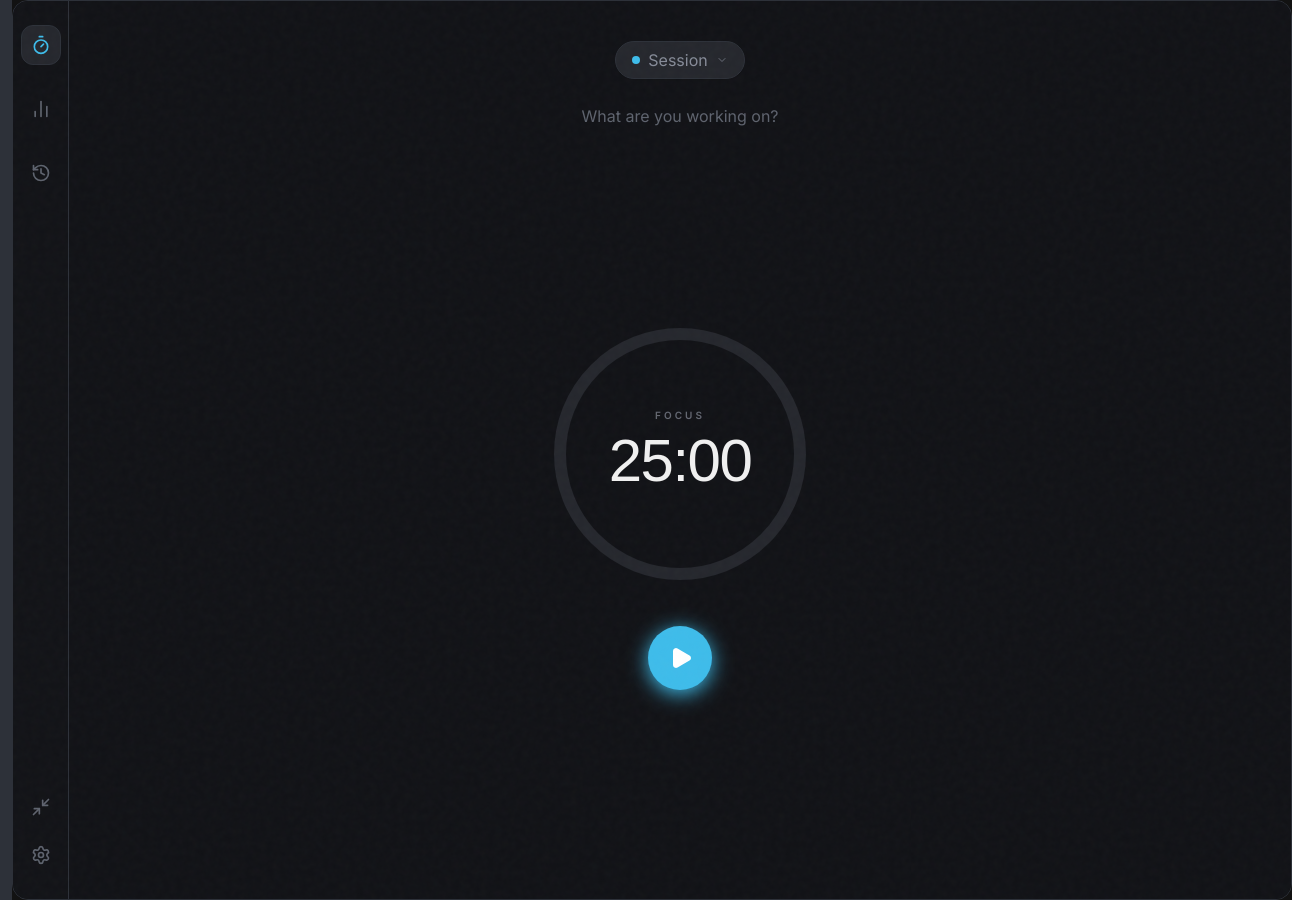
App onboarding flow › runs breathing ritual before focus when enabled and supports skip
Click the button named "start timer" at (680, 658), box [648,626,712,690]
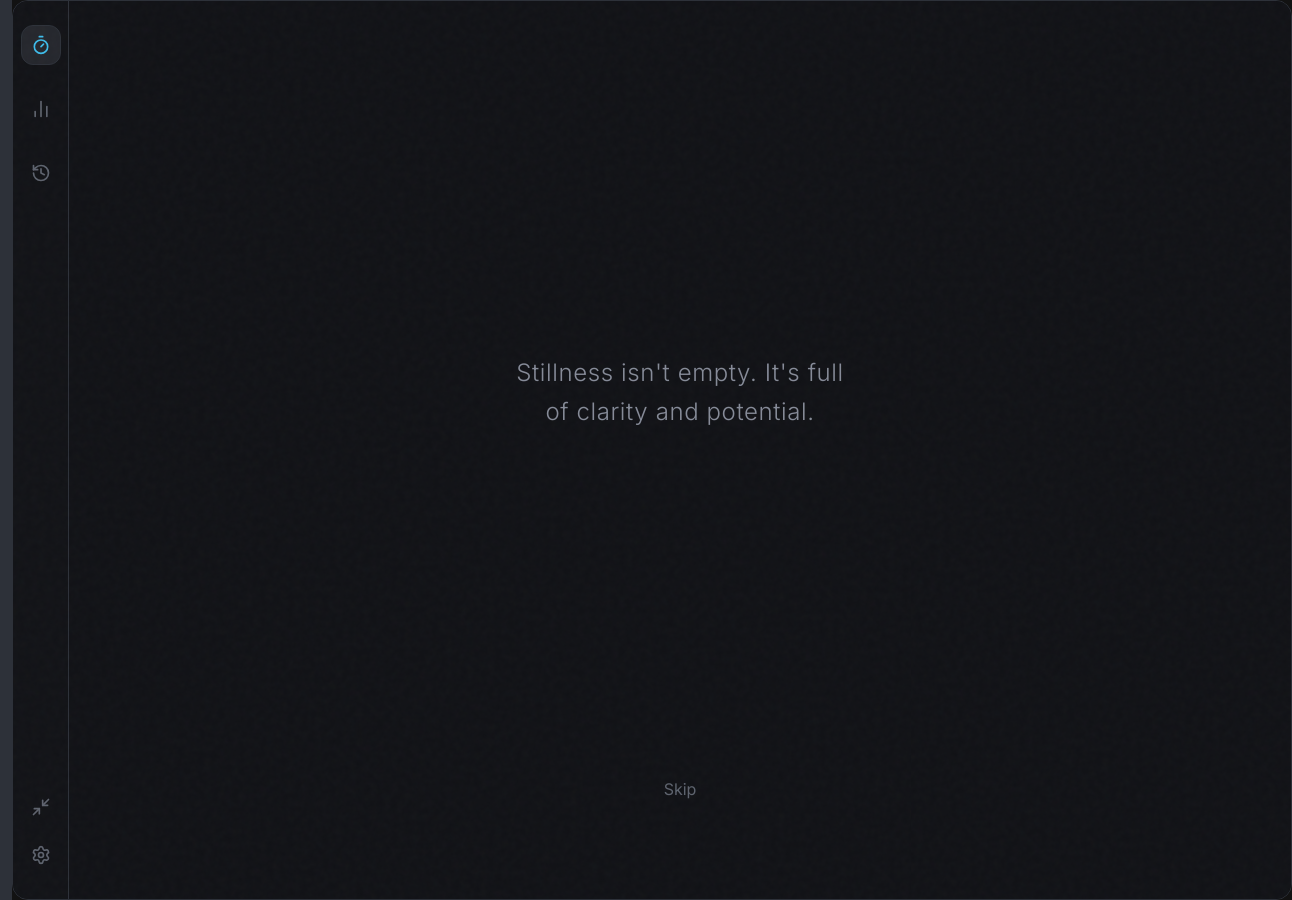
Check: the button "Skip" is shown
Click the button "Skip" at (680, 789), box [640,767,720,811]
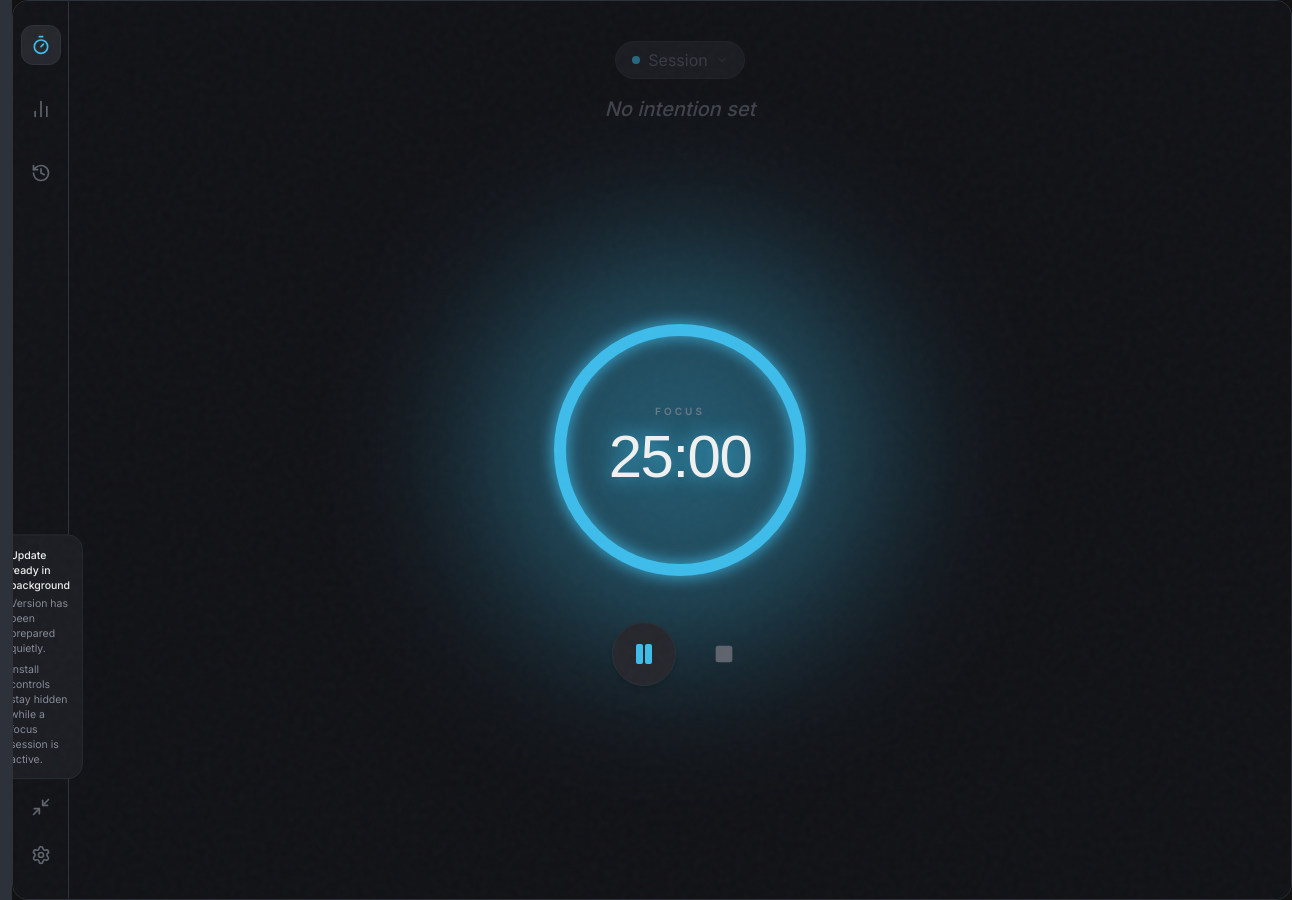
Check: the button named "pause" is shown, box [612,622,676,686]
